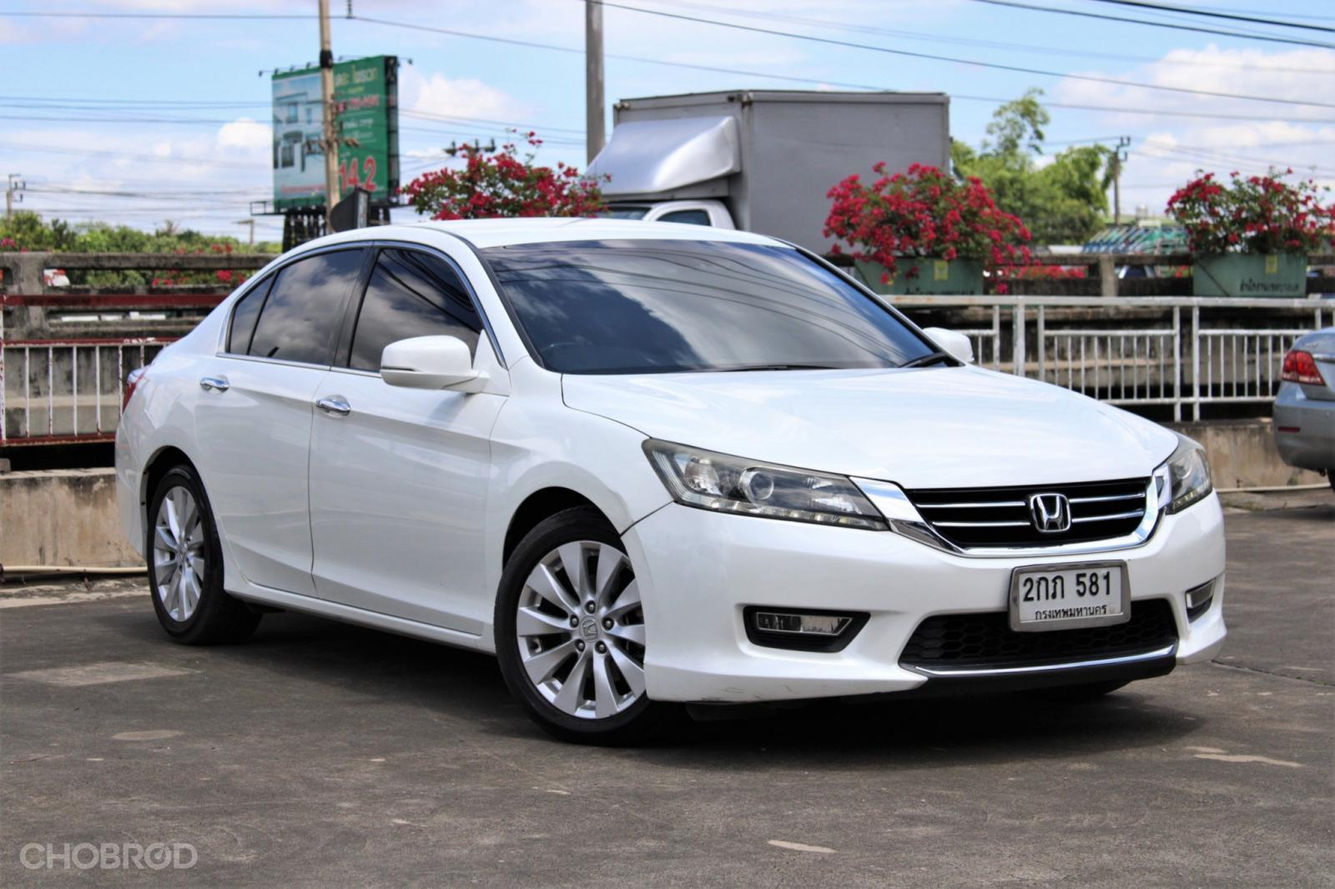license-plate: (1004, 556, 1141, 634)
